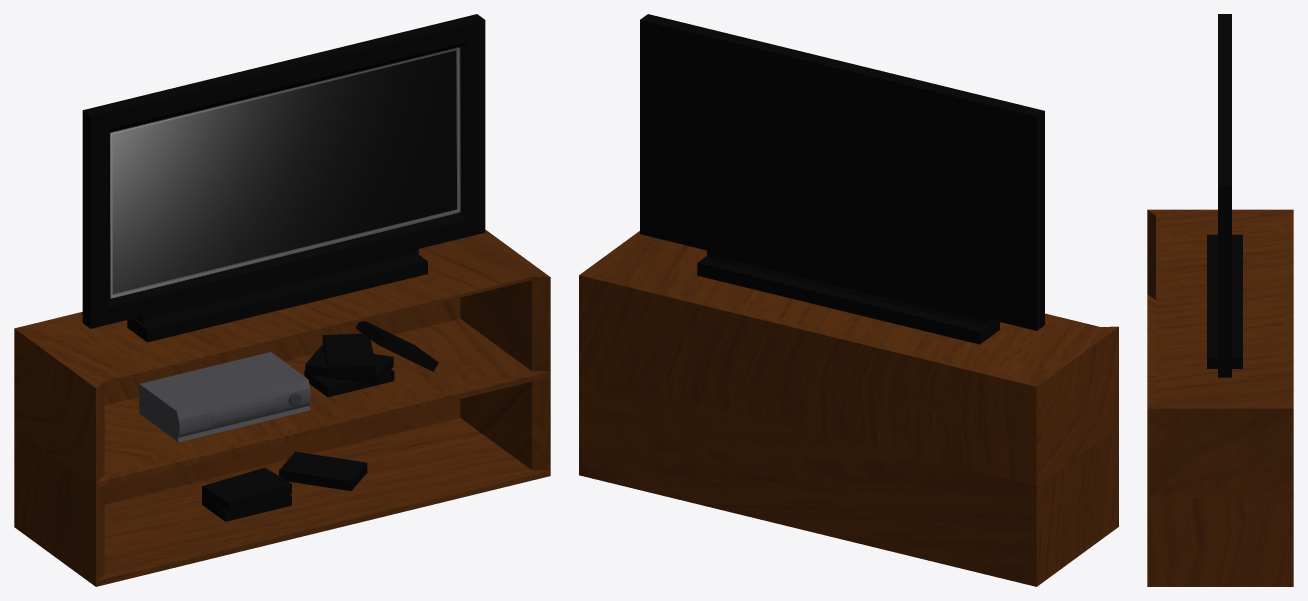
File: ov_dresser.FBX
3 renders of one model, left to right at view 1: azimuth 30°, elevation 25°; view 2: azimuth 150°, elevation 25°; view 3: azimuth 270°, elevation 25°, orthographic. The views are drawn at different scales.
Parts seen in each view (by area): view 1: Box010; view 2: Box010; view 3: Box010.
Part boxes in pixels (box(x1,y1,x2,y2)): Box010: box(14, 14, 550, 586); Box010: box(579, 14, 1118, 586); Box010: box(1147, 14, 1293, 586).
Size of the model in its own units: 70.56 by 64.33 by 21.94.
